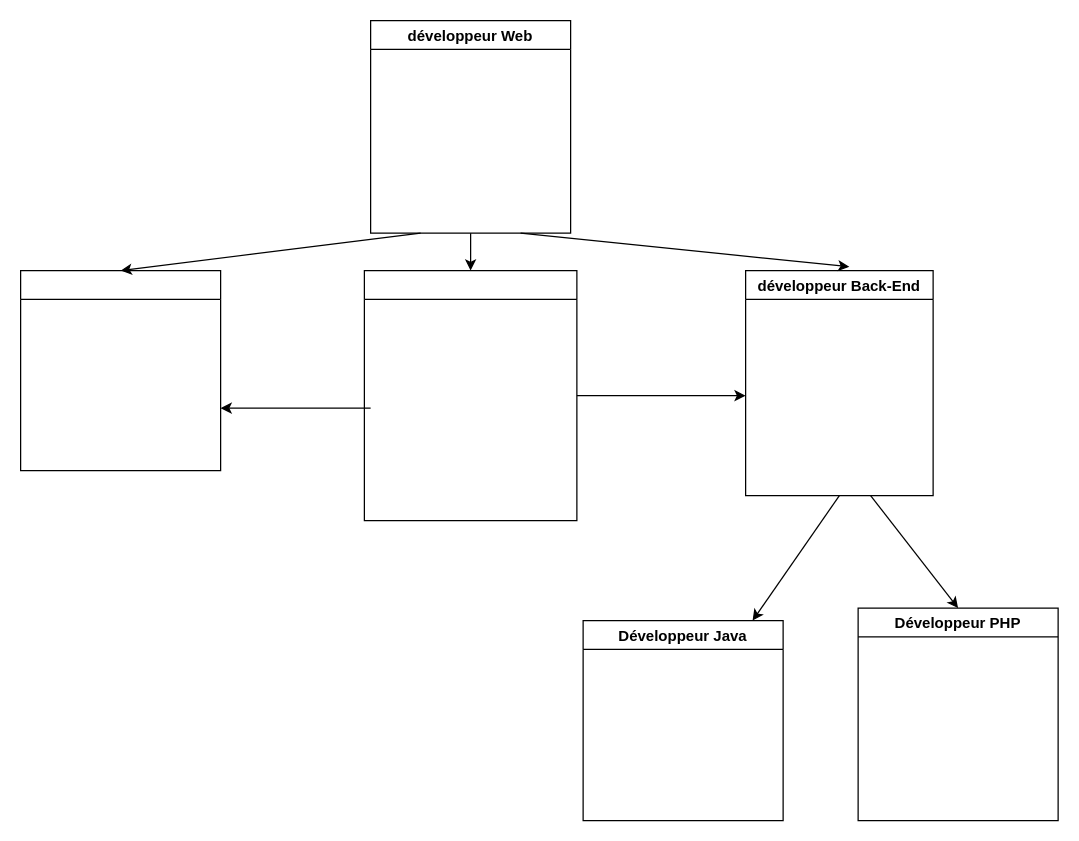
The diagram is 1079 pixels wide and 841 high, and some of its shapes have lost their labels. Here are the shapes that lost their labels. From the top down, the centre of each, then its label:
At point (120, 370): "développeur Front-End".
At point (470, 395): "développeur Full-Stack".
